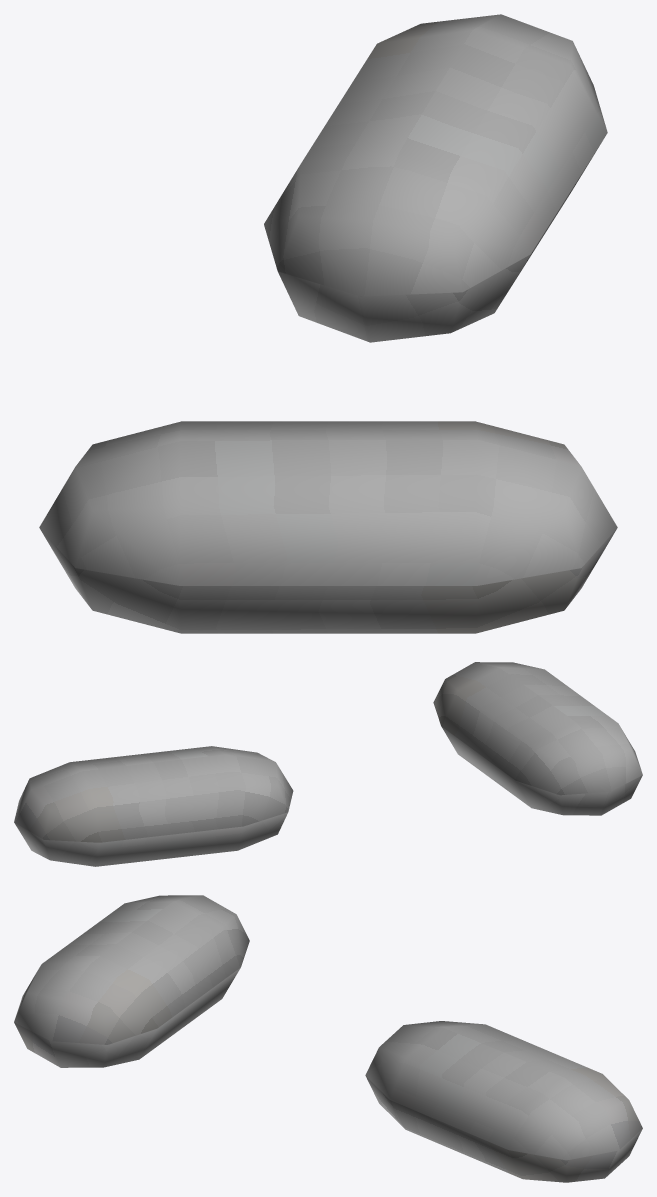
The model's file is pills_1.dae.
The picture shows the model from 3 angles, top to bottom: view 1: azimuth 30°, elevation 25°; view 2: azimuth 150°, elevation 25°; view 3: azimuth 270°, elevation 25°; orthographic projection. The views are drawn at different scales.
Parts seen in each view (by area): view 1: pills_1; view 2: pills_1; view 3: pills_1.
Part boxes in pixels (x1,y1,x2,y2): pills_1: (39, 14, 617, 633); pills_1: (14, 662, 642, 866); pills_1: (14, 895, 642, 1182).
Size of the model in its own units: 0.0648 by 0.0711 by 0.0123.
Materials: 1 (1 with a texture image).
